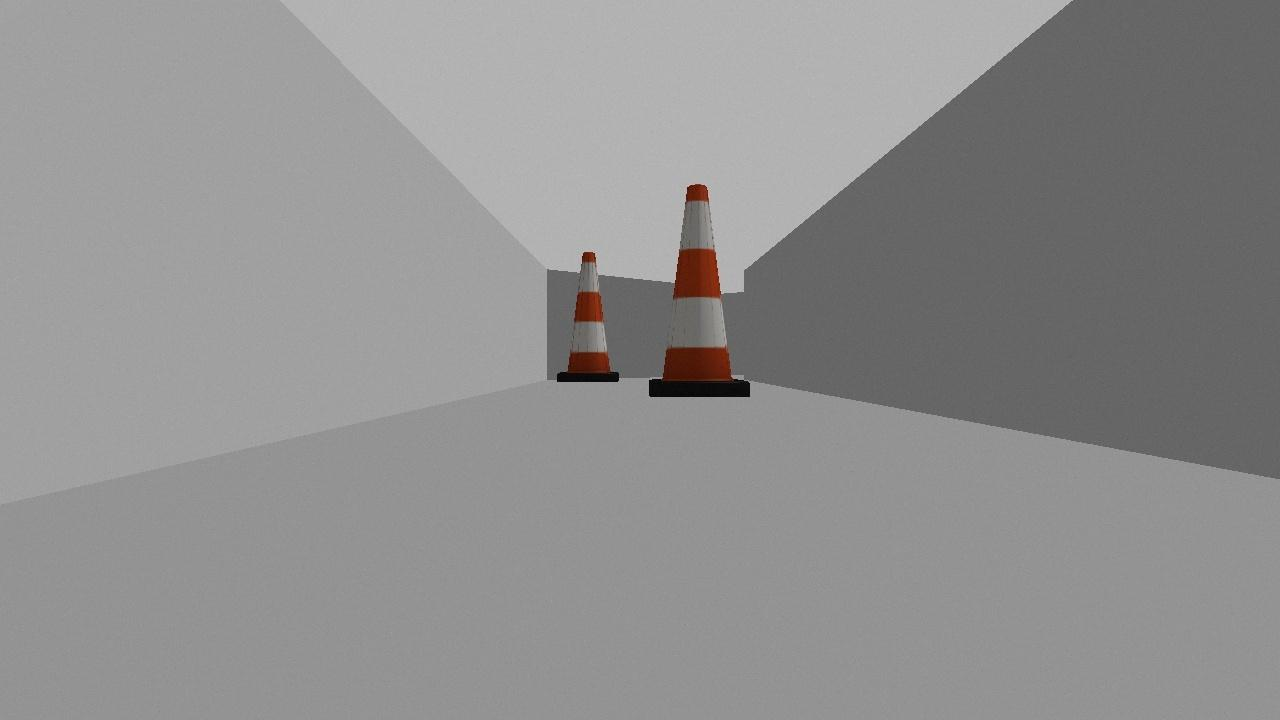cone_barrel: (643, 179, 755, 402), (553, 247, 621, 388)
